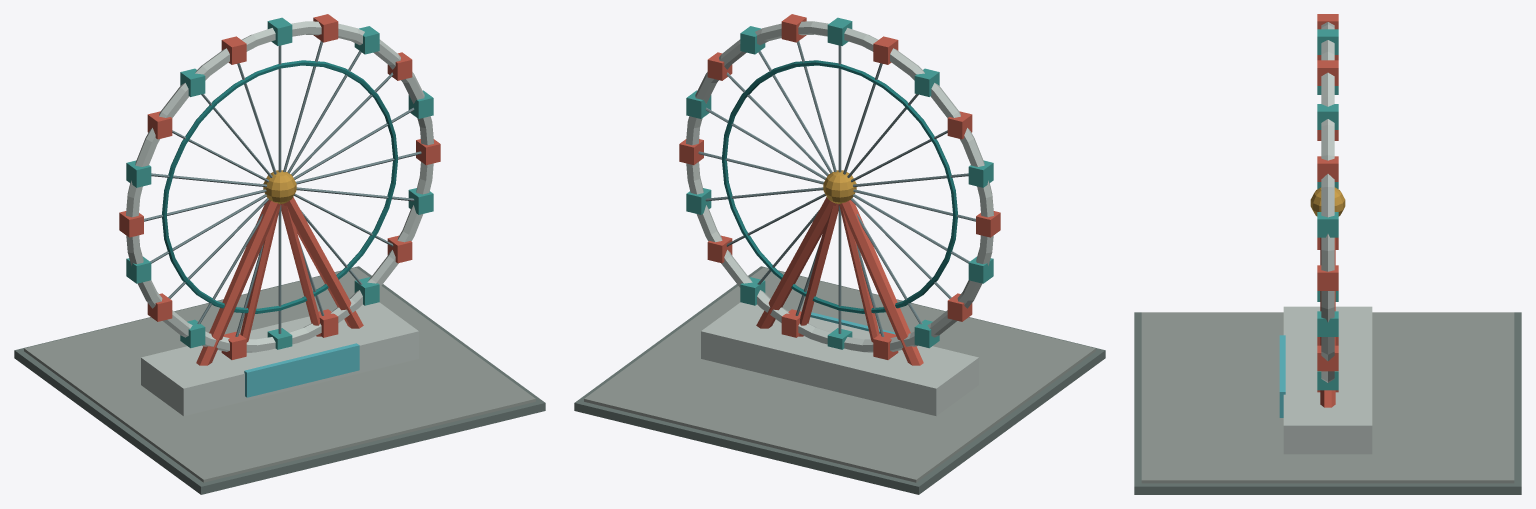
Rendered from ferris_wheel_lv4.glb.
3 renders of one model, left to right at view 1: azimuth 30°, elevation 25°; view 2: azimuth 150°, elevation 25°; view 3: azimuth 270°, elevation 25°, orthographic. The views are drawn at different scales.
Parts seen in each view (by area): view 1: rough, metallic, glossy; view 2: rough, metallic; view 3: rough, glossy.
Part boxes in pixels (x1,y1,x2,y2): rough: [14, 14, 545, 494]; metallic: [144, 41, 421, 336]; glossy: [244, 343, 359, 397]; rough: [574, 14, 1105, 494]; metallic: [698, 41, 975, 336]; rough: [1134, 14, 1521, 494]; glossy: [1279, 335, 1285, 417].
Bounding box in the file's own units: 9.8 × 9.83 × 9.2.
